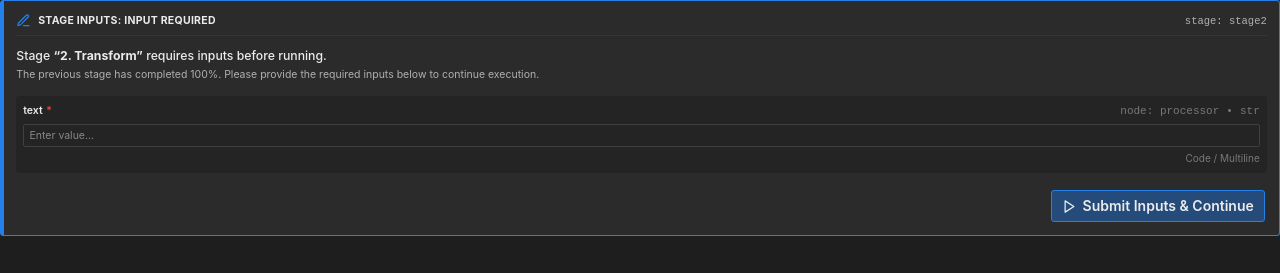
Test: StageApprovalCard component (Task 6.6) › renders stage inputs form when missing required inputs exist and submits them
Later steps or results of the test are not shown.
expect the heading "Stage Inputs: Input Required" is shown: met, box left=38, top=14, right=216, bottom=28
expect the text "Stage “2. Transform” requires inputs before running." is shown: met, box left=16, top=48, right=327, bottom=63
# Clicking submit with empty required input shows validation error
Click the button "Submit Inputs & Continue".
click(1158, 206)  # box left=1051, top=190, right=1265, bottom=222
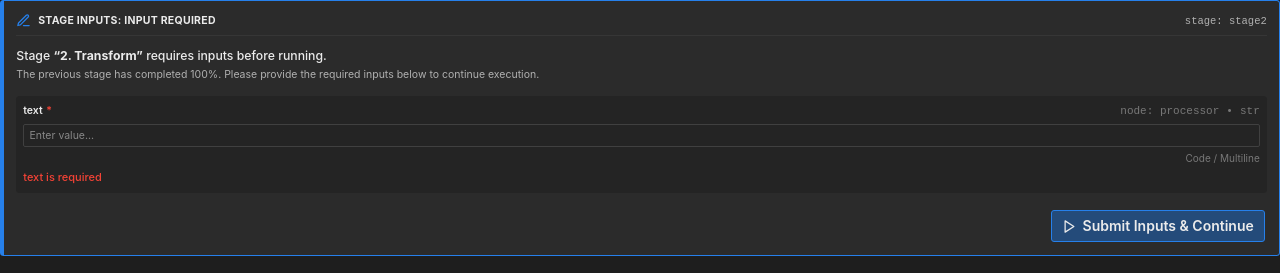
expect the text "text is required" is shown: met, box left=23, top=170, right=102, bottom=184
